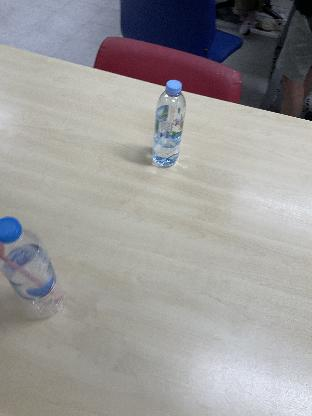Plastic Bottle: (0, 216, 64, 320), (152, 79, 186, 169)
